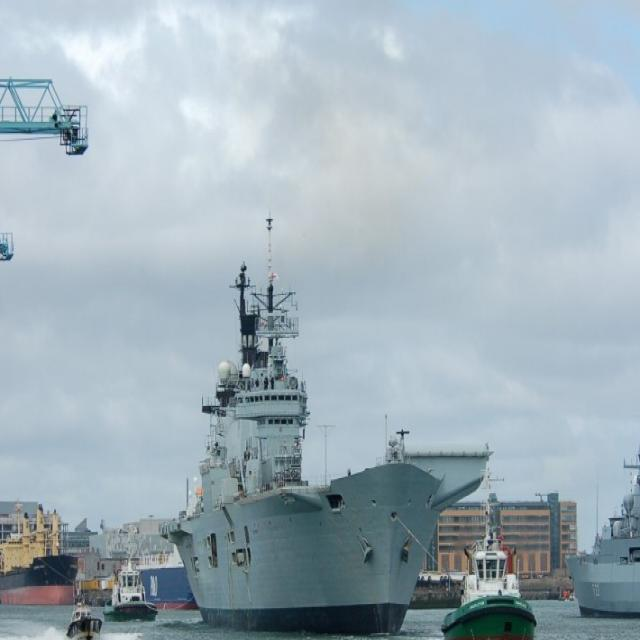Portanaves: (159, 208, 498, 640)
